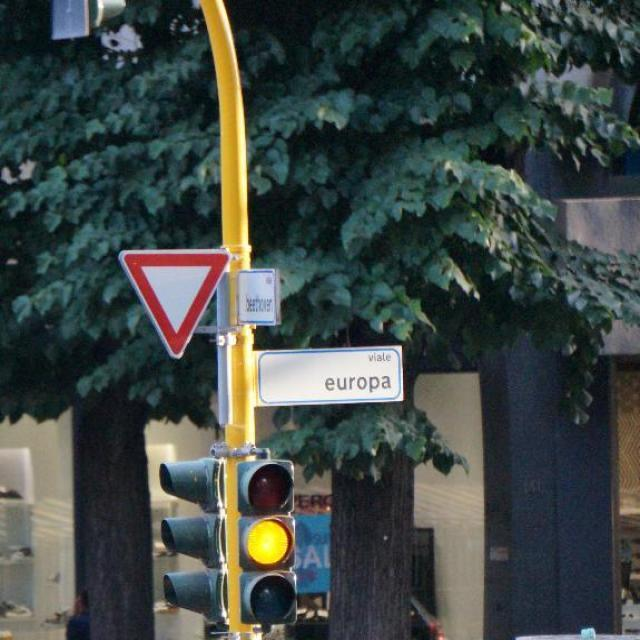yellow_light: (237, 448, 297, 630)
